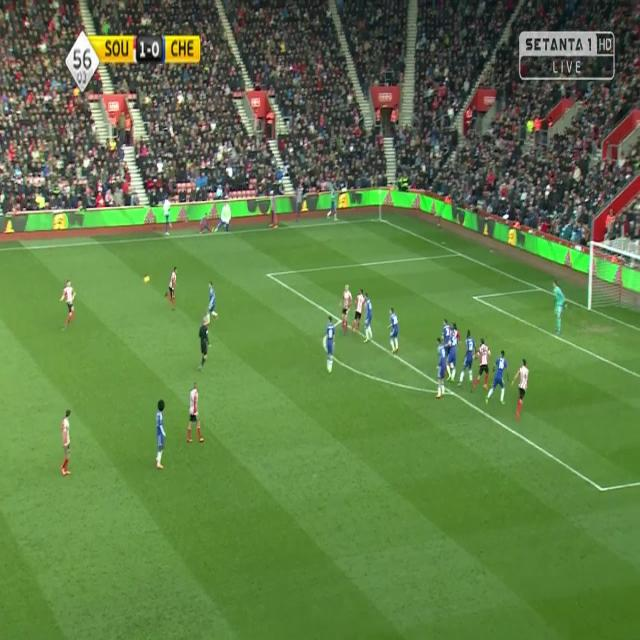Ball: (142, 272, 151, 286)
Goalkeeper: (550, 276, 570, 336)
Player: (185, 375, 206, 450), (485, 348, 510, 411), (152, 395, 170, 472), (457, 327, 478, 390), (58, 276, 80, 331), (512, 357, 530, 422), (58, 407, 74, 480), (473, 336, 492, 394), (162, 262, 180, 317), (432, 337, 446, 402), (322, 315, 337, 375), (361, 290, 375, 348), (337, 282, 353, 332), (386, 303, 401, 356), (352, 287, 367, 337), (206, 278, 220, 324), (448, 329, 458, 384)
Referee: (198, 314, 213, 370)
